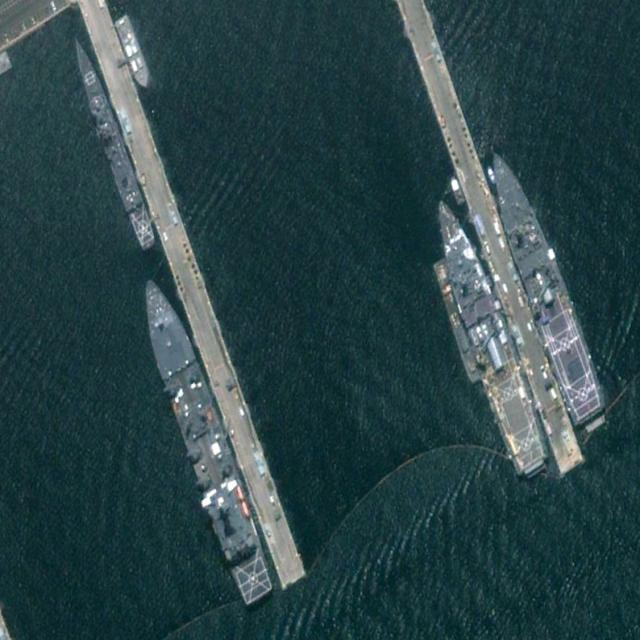Commander: (130, 265, 277, 613)
Frigate: (67, 32, 159, 254)
Landing: (423, 187, 552, 484), (479, 137, 608, 431)
